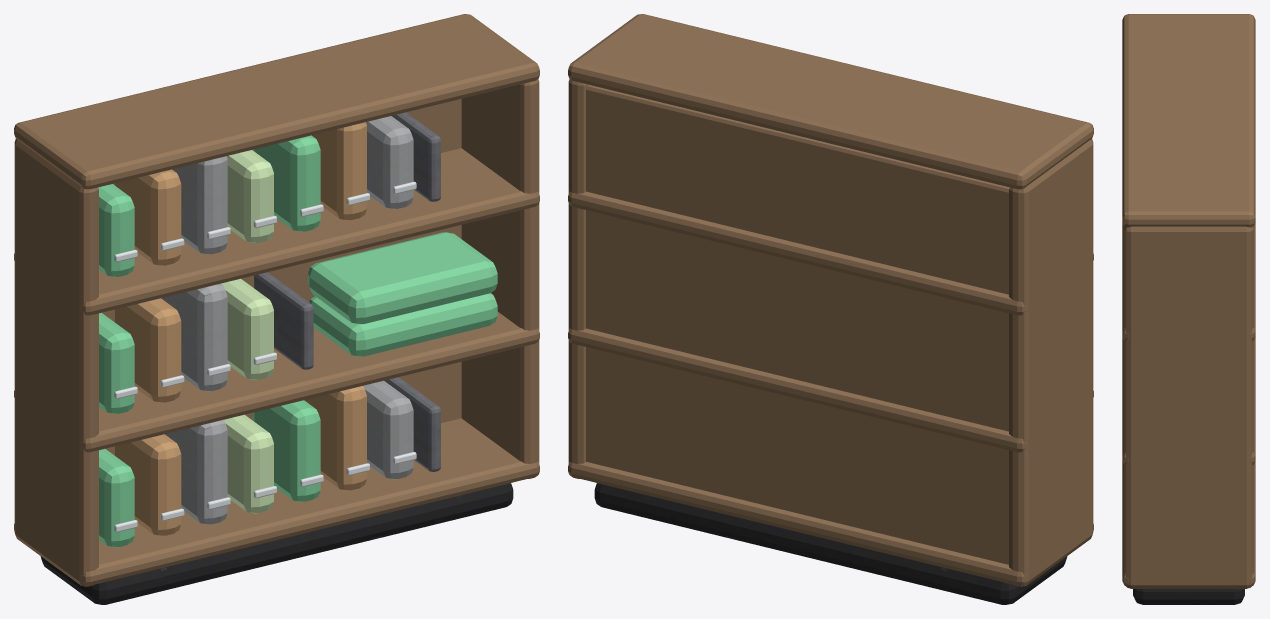
File: decor_quiet_reading_shelf.glb
The picture shows the model from 3 angles, left to right: view 1: azimuth 30°, elevation 25°; view 2: azimuth 150°, elevation 25°; view 3: azimuth 270°, elevation 25°; orthographic projection. The views are drawn at different scales.
Visible parts, largest first — view 1: DEC_QuietReadingShelf__Shelf_3, DEC_QuietReadingShelf__Side_0, DEC_QuietReadingShelf__Side_1, DEC_QuietReadingShelf__Shelf_2, DEC_QuietReadingShelf__Shelf_0, DEC_QuietReadingShelf__Shelf_1, DEC_QuietReadingShelf__Blanket_1, DEC_QuietReadingShelf__Toe, DEC_QuietReadingShelf__Blanket_0, DEC_QuietReadingShelf__Back, DEC_QuietReadingShelf__Book_1_1, DEC_QuietReadingShelf__Book_1_2 (+19 smaller); view 2: DEC_QuietReadingShelf__Back, DEC_QuietReadingShelf__Shelf_3, DEC_QuietReadingShelf__Side_0, DEC_QuietReadingShelf__Toe, DEC_QuietReadingShelf__Shelf_2, DEC_QuietReadingShelf__Shelf_0, DEC_QuietReadingShelf__Shelf_1, DEC_QuietReadingShelf__Side_1; view 3: DEC_QuietReadingShelf__Side_1, DEC_QuietReadingShelf__Shelf_3, DEC_QuietReadingShelf__Toe, DEC_QuietReadingShelf__Shelf_1, DEC_QuietReadingShelf__Shelf_0, DEC_QuietReadingShelf__Shelf_2.
Boxes of the visible parts, x1=… form: DEC_QuietReadingShelf__Shelf_3: x1=14, y1=14, x2=539, y2=189; DEC_QuietReadingShelf__Side_0: x1=14, y1=139, x2=98, y2=586; DEC_QuietReadingShelf__Side_1: x1=461, y1=79, x2=539, y2=478; DEC_QuietReadingShelf__Shelf_2: x1=14, y1=148, x2=539, y2=315; DEC_QuietReadingShelf__Shelf_0: x1=14, y1=418, x2=539, y2=585; DEC_QuietReadingShelf__Shelf_1: x1=14, y1=312, x2=539, y2=452; DEC_QuietReadingShelf__Blanket_1: x1=308, y1=232, x2=497, y2=324; DEC_QuietReadingShelf__Toe: x1=40, y1=483, x2=513, y2=604; DEC_QuietReadingShelf__Blanket_0: x1=309, y1=293, x2=497, y2=356; DEC_QuietReadingShelf__Back: x1=102, y1=99, x2=461, y2=454; DEC_QuietReadingShelf__Book_1_1: x1=113, y1=298, x2=181, y2=402; DEC_QuietReadingShelf__Book_1_2: x1=161, y1=284, x2=227, y2=391; DEC_QuietReadingShelf__Back: x1=586, y1=85, x2=1009, y2=564; DEC_QuietReadingShelf__Shelf_3: x1=568, y1=14, x2=1093, y2=189; DEC_QuietReadingShelf__Side_0: x1=1009, y1=139, x2=1093, y2=586; DEC_QuietReadingShelf__Toe: x1=594, y1=483, x2=1067, y2=604; DEC_QuietReadingShelf__Shelf_2: x1=568, y1=191, x2=1093, y2=315; DEC_QuietReadingShelf__Shelf_0: x1=568, y1=462, x2=1093, y2=585; DEC_QuietReadingShelf__Shelf_1: x1=568, y1=328, x2=1093, y2=452; DEC_QuietReadingShelf__Side_1: x1=568, y1=79, x2=588, y2=478; DEC_QuietReadingShelf__Side_1: x1=1124, y1=226, x2=1253, y2=588; DEC_QuietReadingShelf__Shelf_3: x1=1122, y1=14, x2=1255, y2=227; DEC_QuietReadingShelf__Toe: x1=1133, y1=589, x2=1244, y2=604; DEC_QuietReadingShelf__Shelf_1: x1=1122, y1=337, x2=1255, y2=465; DEC_QuietReadingShelf__Shelf_0: x1=1122, y1=461, x2=1255, y2=586; DEC_QuietReadingShelf__Shelf_2: x1=1122, y1=222, x2=1255, y2=340.
Bounding box in the file's own units: 1.33 × 1.24 × 0.37.
8 materials, 3 textured.
